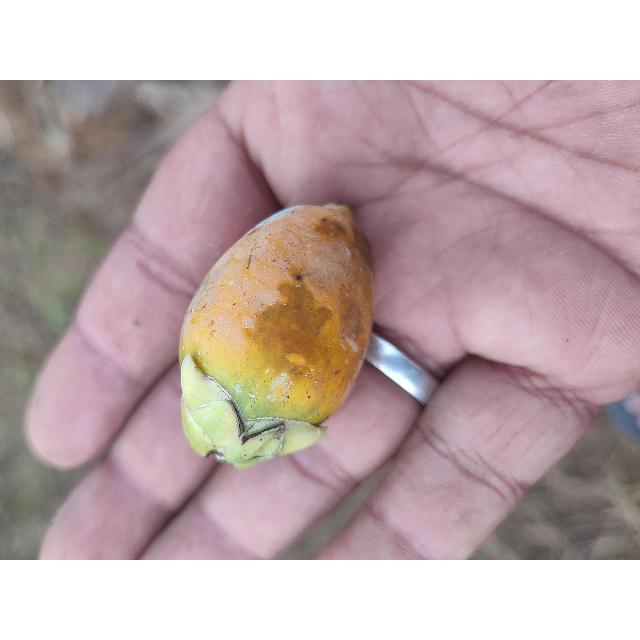good: (176, 204, 374, 471)
